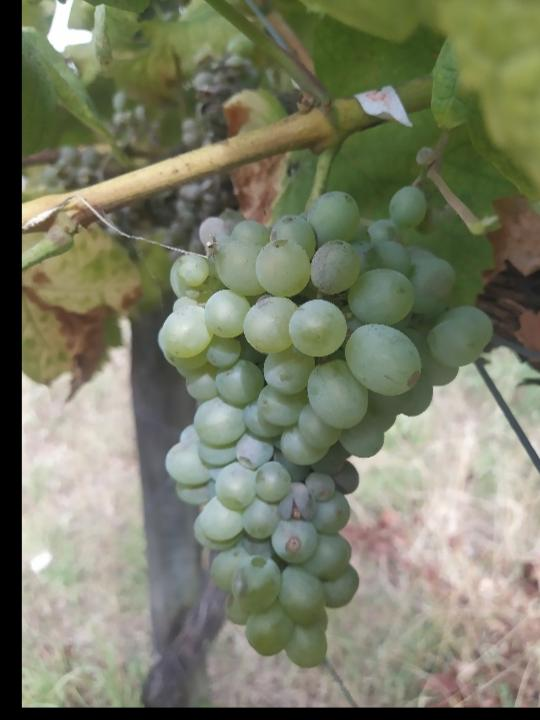grape: (154, 185, 501, 674)
